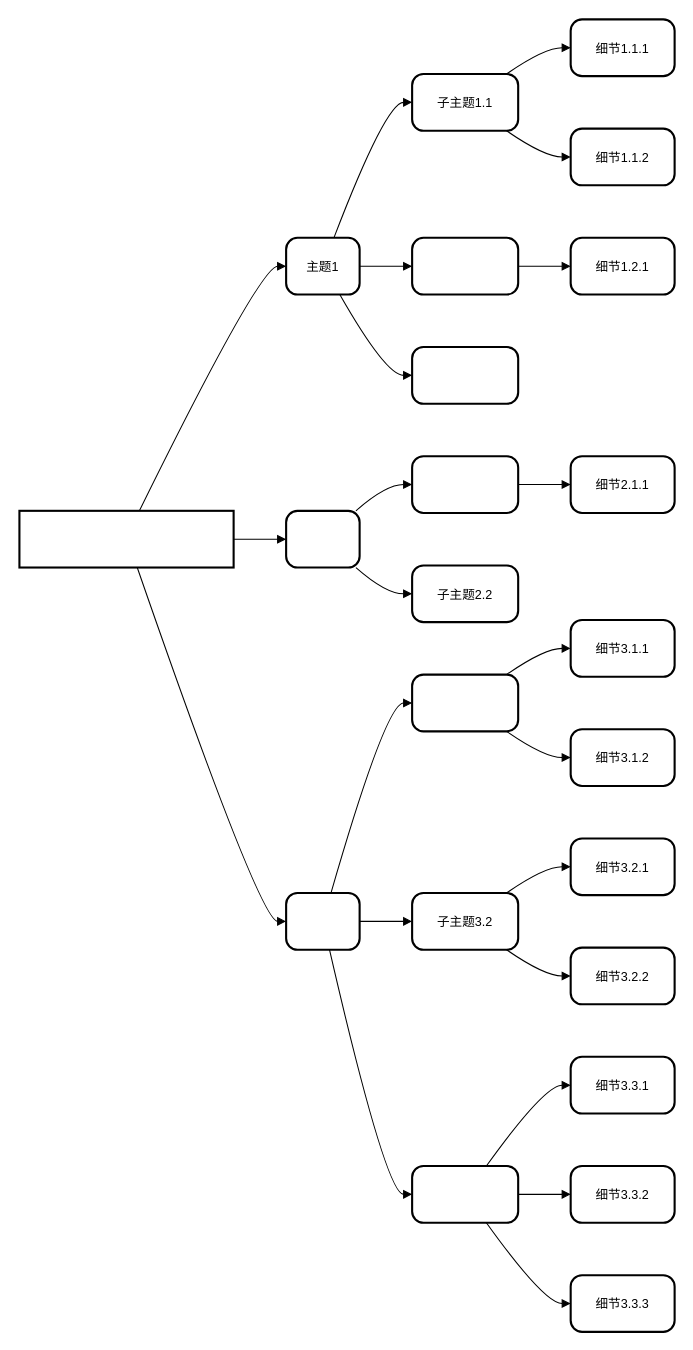
Some shapes in this 693 by 1350 pixel diagram are drawn without their labels. The shapes that lost their labels are listed below. From the top down, each one's centre as x and y in pixels, then its label:
At point 465,265: "子主题1.2".
At point 465,374: "子主题1.3".
At point 465,484: "子主题2.1".
At point 126,538: "从左到右的思维导图".
At point 322,538: "主题2".
At point 465,702: "子主题3.1".
At point 322,920: "主题3".
At point 465,1193: "子主题3.3".
